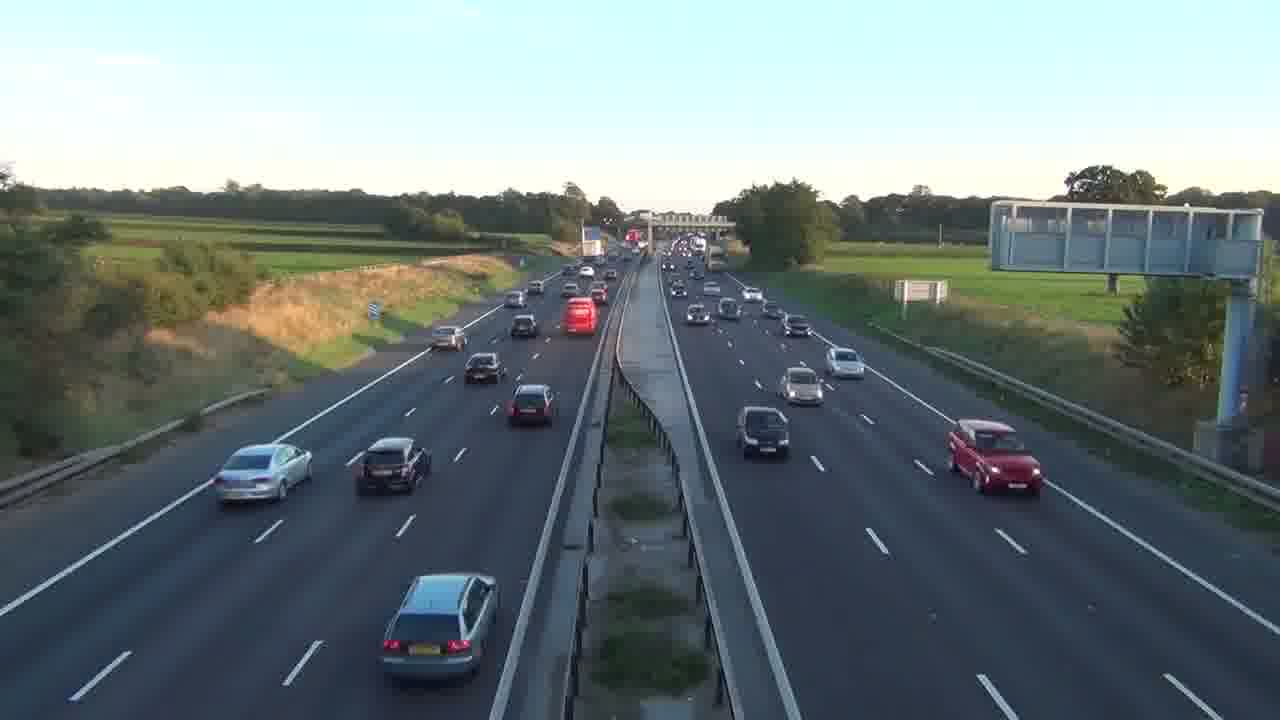car: (379, 572, 499, 687), (208, 442, 313, 505), (346, 435, 432, 496), (736, 403, 791, 459), (507, 383, 559, 426), (778, 364, 827, 406), (826, 346, 866, 379), (463, 352, 503, 385)
truck: (945, 419, 1043, 496)
